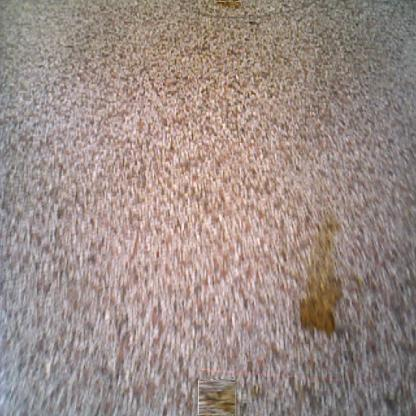liquid: (298, 219, 344, 339), (199, 379, 235, 416), (212, 1, 242, 9)
